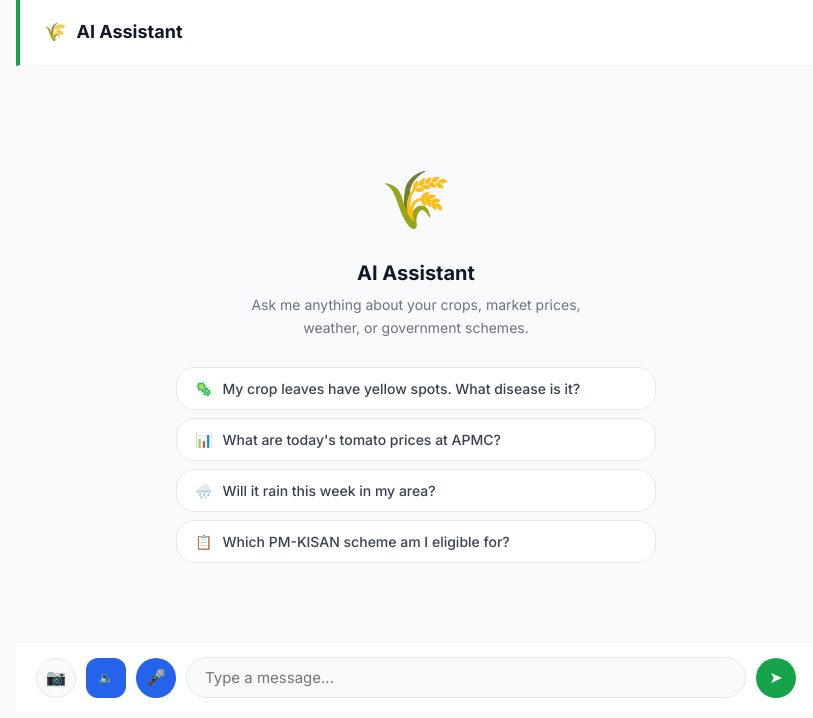
Scenario: ChatPage › displays safety refusal messages
The image size is (813, 718).
In the field with test id "chat-input": (466, 678) [186,657,746,698], type "unsafe query"
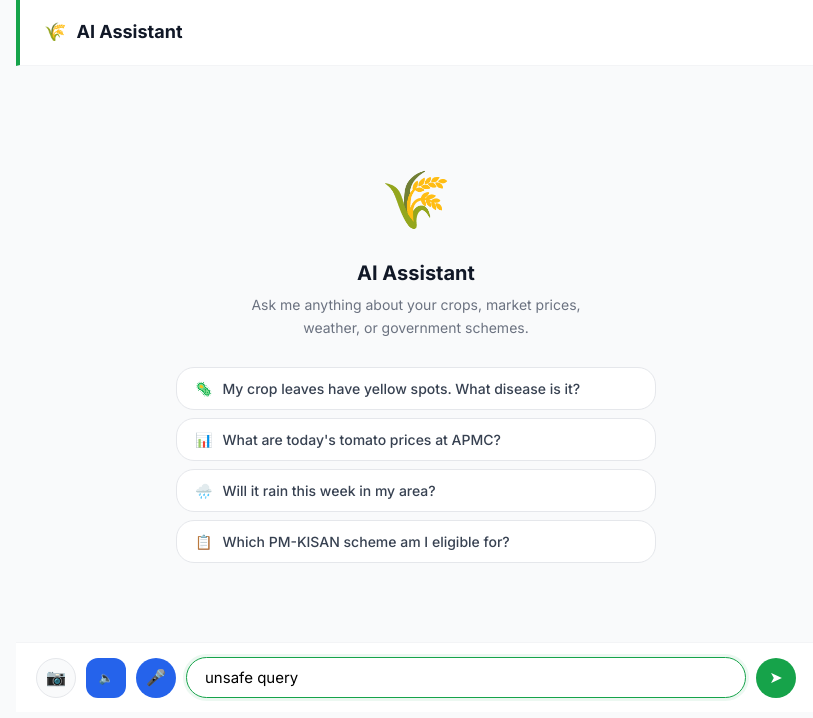
Click the button with test id "send-btn": (776, 678) [756,658,796,698]
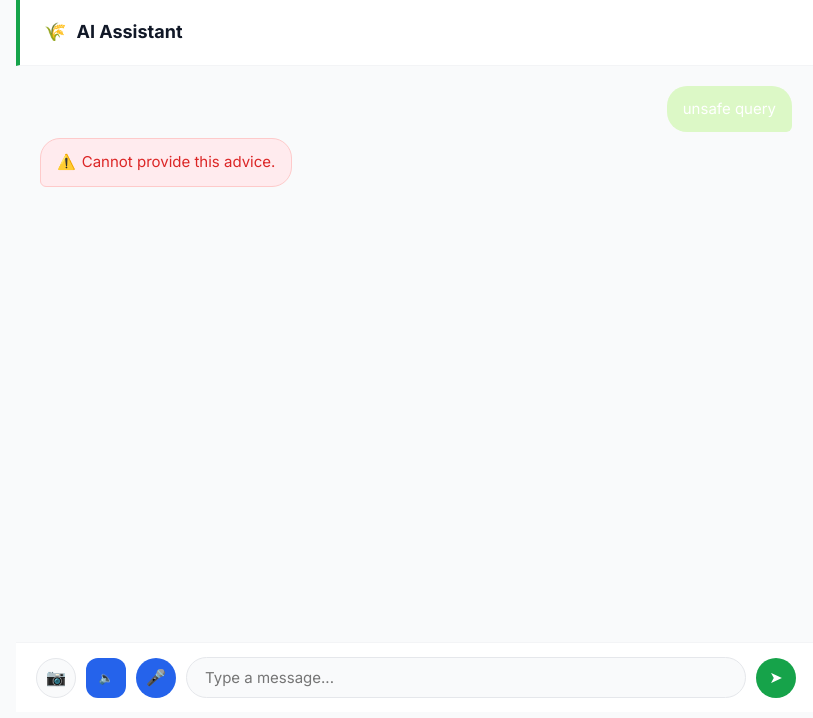
expect the element with test id "safety-refusal" shows "Cannot provide this advice.": met, box [82,152,275,171]
